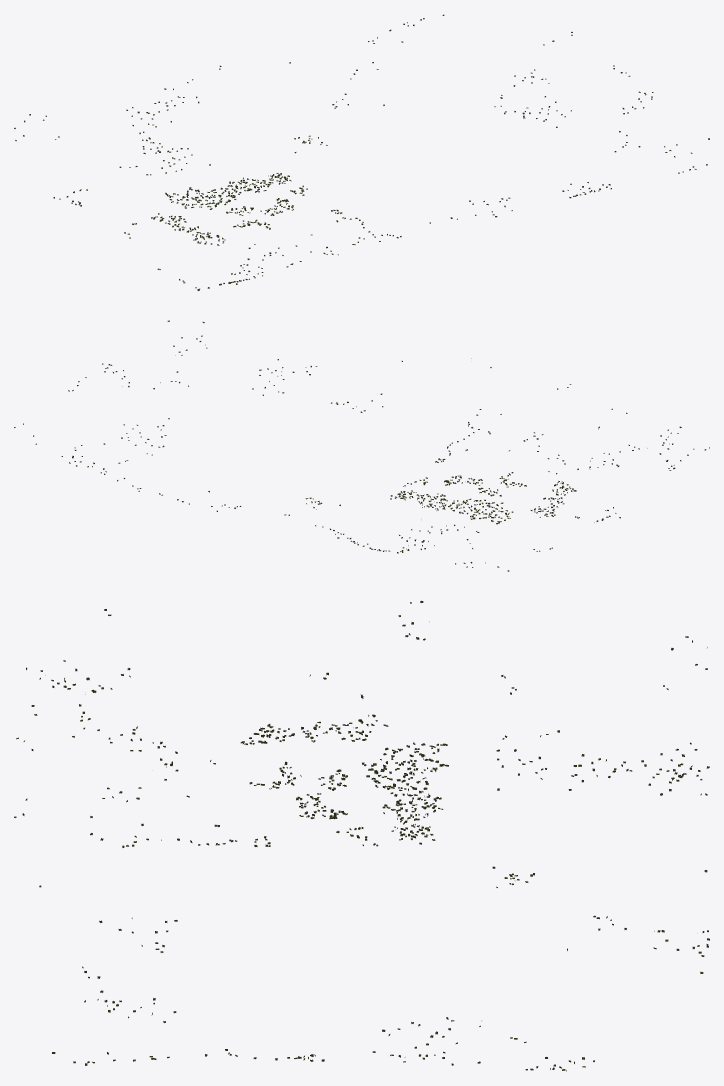
The model's file is SM_Art_Cover_L_FalseBearings_GrassDry.gltf.
The picture shows the model from 3 angles, top to bottom: view 1: azimuth 30°, elevation 25°; view 2: azimuth 150°, elevation 25°; view 3: azimuth 270°, elevation 25°; orthographic projection. The views are drawn at different scales.
Visible parts, largest first — view 1: SM_Art_Cover_L_FalseBearings_GrassDry; view 2: SM_Art_Cover_L_FalseBearings_GrassDry; view 3: SM_Art_Cover_L_FalseBearings_GrassDry.
Boxes of the visible parts, <box> form: SM_Art_Cover_L_FalseBearings_GrassDry: <box>14,14,709,290</box>; SM_Art_Cover_L_FalseBearings_GrassDry: <box>14,320,709,571</box>; SM_Art_Cover_L_FalseBearings_GrassDry: <box>14,600,709,1071</box>.
Bounding box in the file's own units: 294 × 21.92 × 192.
1 material, 1 textured.
